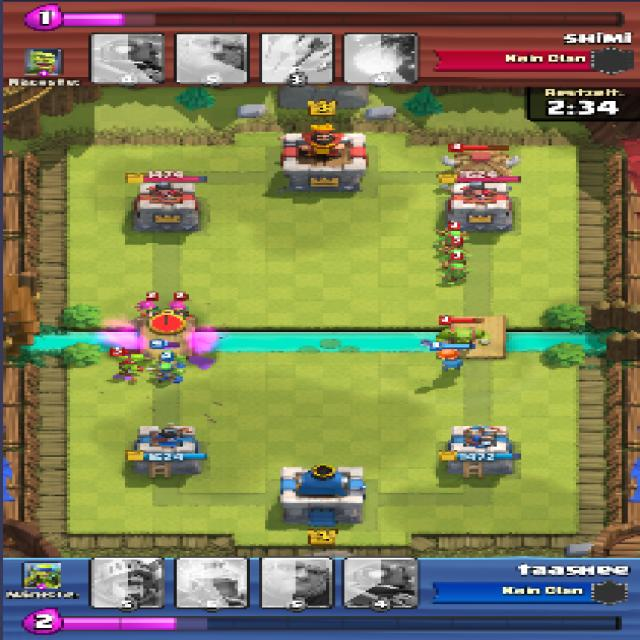Enemy-Archer: (169, 300, 192, 322), (134, 302, 163, 318)
Enemy-Goblin: (116, 353, 144, 378)
Enemy-GoblinHut: (438, 152, 520, 181)
Enemy-SpearGoblin: (433, 228, 472, 248), (436, 264, 474, 284), (435, 247, 471, 264)
Player-GoblinCage: (435, 326, 490, 348)
Player-SpearGoblin: (151, 363, 183, 384), (153, 349, 188, 366)
Player-Valkyrie: (427, 346, 473, 372)
